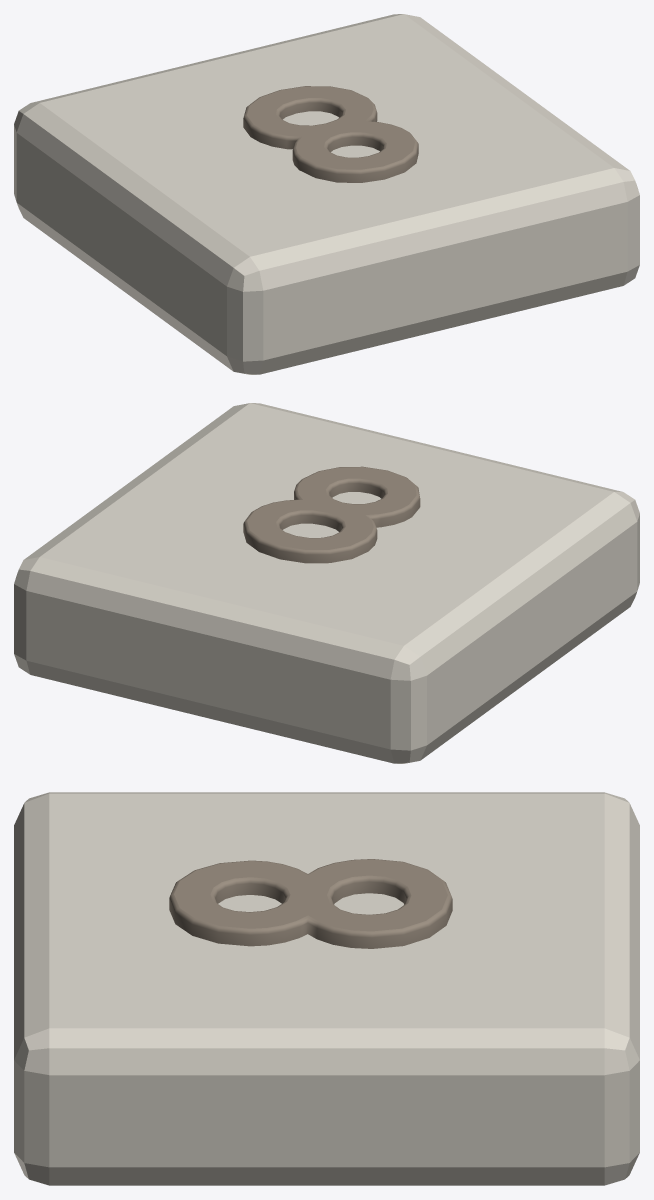
The model's file is Tile_8.fbx.
3 renders of one model, top to bottom at view 1: azimuth 30°, elevation 25°; view 2: azimuth 150°, elevation 25°; view 3: azimuth 270°, elevation 25°, orthographic. The views are drawn at different scales.
Visible parts, largest first — view 1: Tile_8; view 2: Tile_8; view 3: Tile_8.
Part boxes in pixels (box(x1,y1,x2,y2)): Tile_8: box(14, 14, 639, 374); Tile_8: box(14, 403, 639, 763); Tile_8: box(14, 792, 639, 1185).
Bounding box in the file's own units: 80 × 24.2 × 80.
